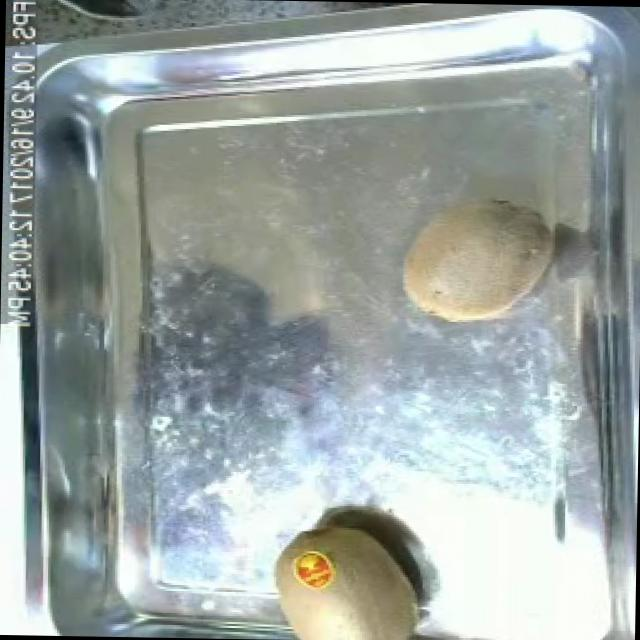Fruit: (392, 183, 563, 334), (264, 511, 430, 640)
